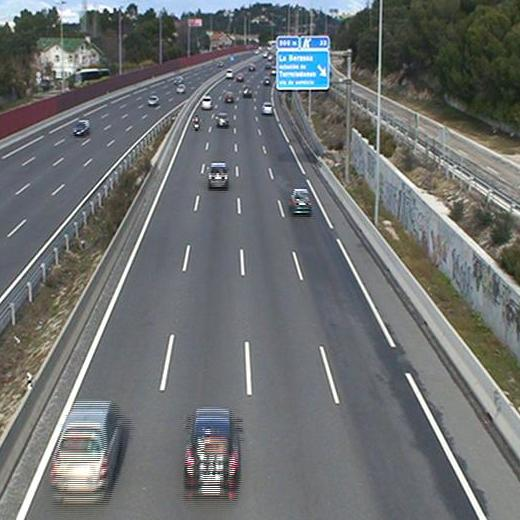car: (50, 404, 121, 504), (182, 406, 241, 483), (289, 188, 314, 214), (207, 163, 228, 187), (200, 93, 213, 113), (215, 112, 230, 127), (223, 90, 235, 103), (261, 101, 272, 113)
motorcycle: (191, 110, 203, 132)
